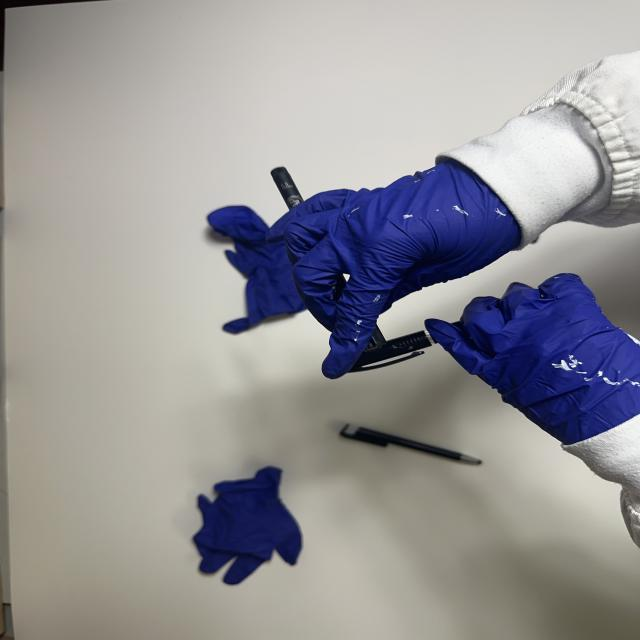gloves_contaminated: (284, 162, 520, 378), (425, 274, 640, 448)
